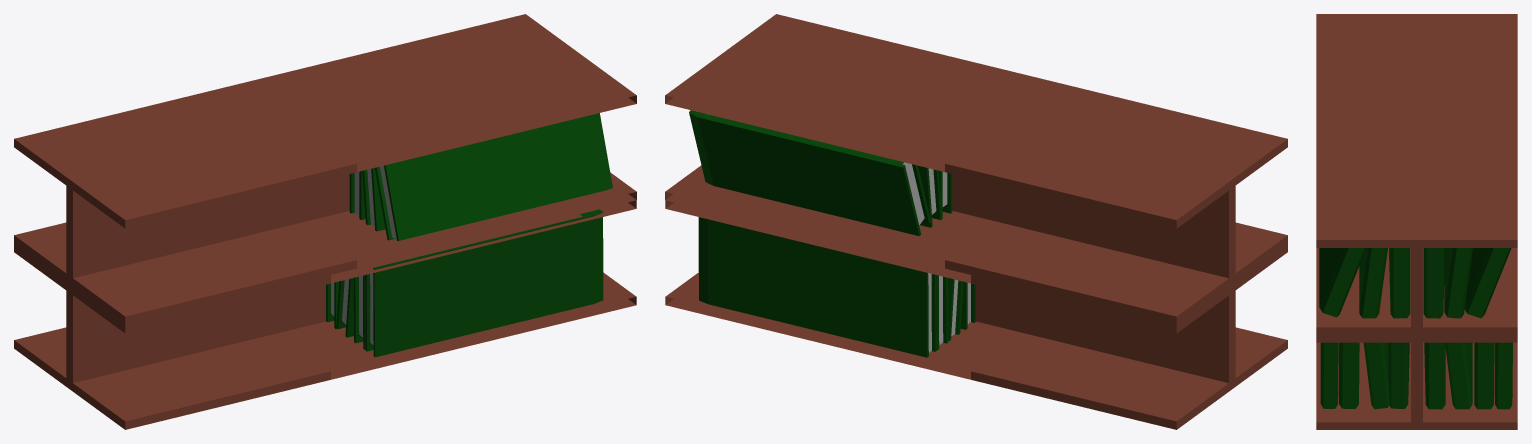
The model's file is LibShelf_Mid 1.fbx.
3 views of the same model, side by side, from view 1: azimuth 30°, elevation 25°; view 2: azimuth 150°, elevation 25°; view 3: azimuth 270°, elevation 25° (orthographic). The views are drawn at different scales.
Visible parts, largest first — view 1: LibraryBookshelf_MidNEW; view 2: LibraryBookshelf_MidNEW; view 3: LibraryBookshelf_MidNEW.
Part boxes in pixels (x1,y1,x2,y2): LibraryBookshelf_MidNEW: (14,14,636,429); LibraryBookshelf_MidNEW: (665,14,1287,429); LibraryBookshelf_MidNEW: (1316,14,1517,429).
Bounding box in the file's own units: 510 × 200 × 192.
